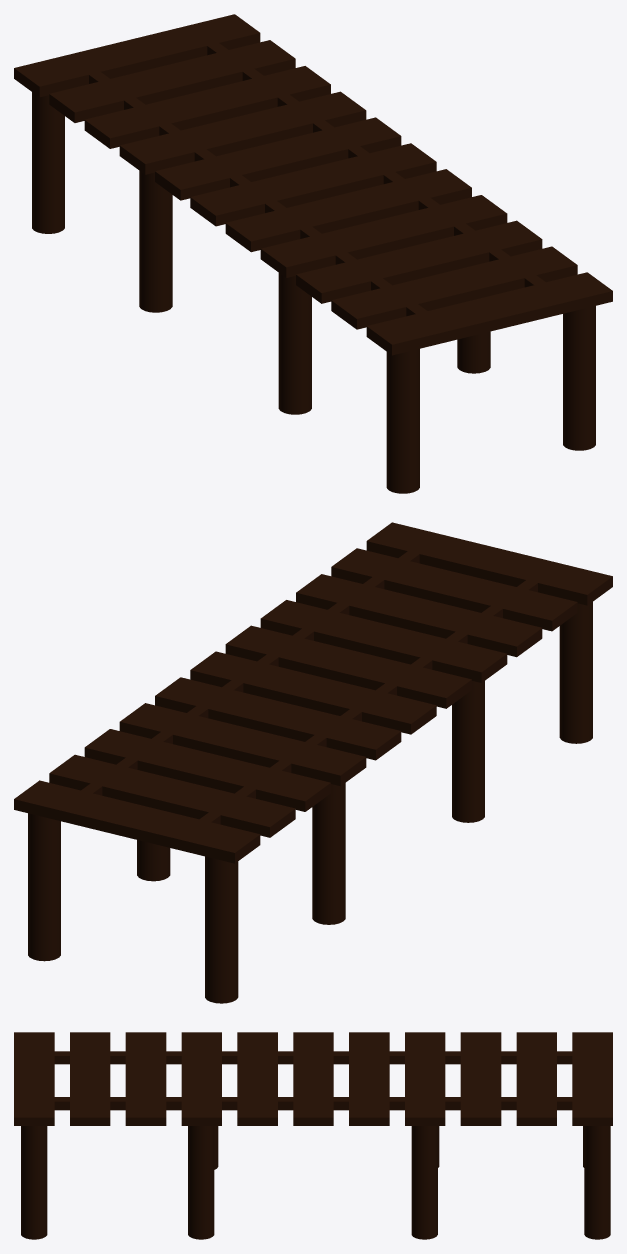
Rendered from bridge.DAE.
The picture shows the model from 3 angles, top to bottom: view 1: azimuth 30°, elevation 25°; view 2: azimuth 150°, elevation 25°; view 3: azimuth 270°, elevation 25°; orthographic projection. The views are drawn at different scales.
Visible parts, largest first — view 1: Box010_001, Box009_001, Box011_001, Box007_001, Box001_002, Box003_002, Box005_001, Box002_002, Box004_002, Box006_001, Box008_001, Cylinder001_002 (+7 smaller); view 2: Box011_001, Box003_002, Box006_001, Box009_001, Box005_001, Box007_001, Box004_002, Box002_002, Box001_002, Box008_001, Box010_001, Cylinder003_002 (+7 smaller); view 3: Box008_001, Box001_002, Box009_001, Box010_001, Box003_002, Box011_001, Box002_002, Box007_001, Box004_002, Box006_001, Box013_001, Box005_001 (+5 smaller).
Boxes of the visible parts, x1=… form: Box010_001: x1=366, y1=272, x2=612, y2=355; Box009_001: x1=331, y1=246, x2=577, y2=329; Box011_001: x1=14, y1=14, x2=260, y2=97; Box007_001: x1=260, y1=195, x2=507, y2=277; Box001_002: x1=190, y1=143, x2=436, y2=226; Box003_002: x1=119, y1=91, x2=366, y2=174; Box005_001: x1=49, y1=40, x2=295, y2=122; Box002_002: x1=155, y1=117, x2=401, y2=200; Box004_002: x1=84, y1=66, x2=330, y2=148; Box006_001: x1=225, y1=169, x2=471, y2=252; Box008_001: x1=296, y1=220, x2=542, y2=303; Cylinder001_002: x1=386, y1=349, x2=419, y2=493; Box011_001: x1=14, y1=780, x2=260, y2=863; Box003_002: x1=119, y1=703, x2=366, y2=786; Box006_001: x1=225, y1=625, x2=471, y2=708; Box009_001: x1=331, y1=548, x2=577, y2=631; Box005_001: x1=49, y1=754, x2=295, y2=837; Box007_001: x1=260, y1=600, x2=507, y2=682; Box004_002: x1=84, y1=729, x2=330, y2=811; Box002_002: x1=155, y1=677, x2=401, y2=760; Box001_002: x1=190, y1=651, x2=436, y2=734; Box008_001: x1=296, y1=574, x2=542, y2=657; Box010_001: x1=366, y1=522, x2=612, y2=605; Cylinder003_002: x1=205, y1=856, x2=238, y2=1003; Box008_001: x1=125, y1=1032, x2=166, y2=1125; Box001_002: x1=293, y1=1032, x2=333, y2=1125; Box009_001: x1=70, y1=1032, x2=110, y2=1125; Box010_001: x1=14, y1=1032, x2=54, y2=1125; Box003_002: x1=405, y1=1032, x2=445, y2=1125; Box011_001: x1=572, y1=1032, x2=612, y2=1125; Box002_002: x1=349, y1=1032, x2=389, y2=1125; Box007_001: x1=181, y1=1032, x2=221, y2=1125; Box004_002: x1=460, y1=1032, x2=501, y2=1125; Box006_001: x1=237, y1=1032, x2=277, y2=1125; Box013_001: x1=21, y1=1051, x2=605, y2=1064; Box005_001: x1=516, y1=1032, x2=556, y2=1125.
Size of the model in its own units: 1424 by 967 by 4223.
